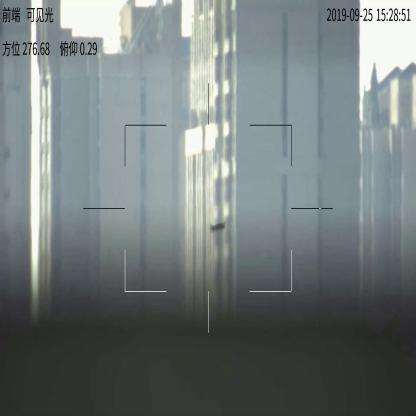uav: (208, 221, 224, 233)
